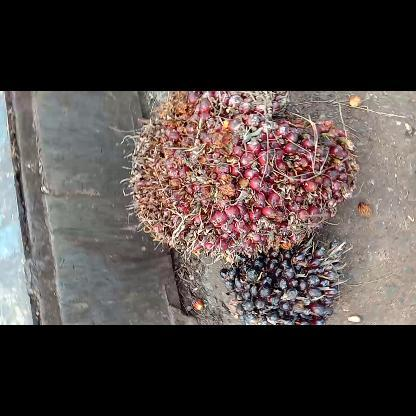TBS abnormal: (218, 243, 344, 323)
TBS masak: (124, 91, 358, 264)
